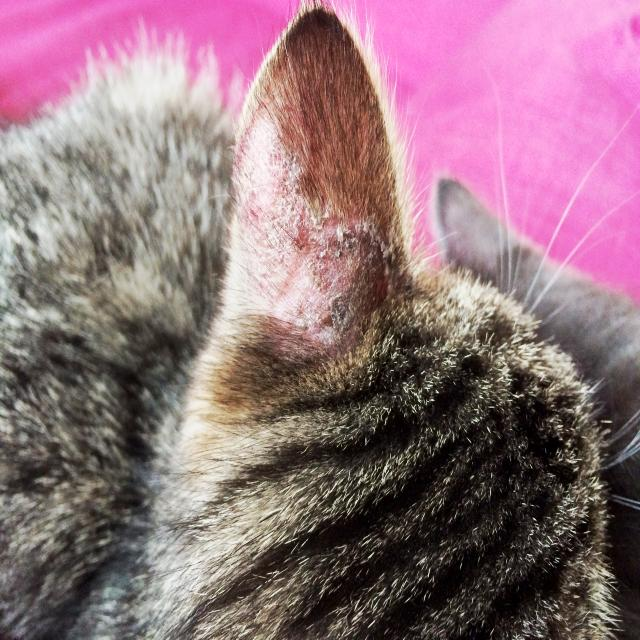ringworm: (233, 110, 358, 348)
